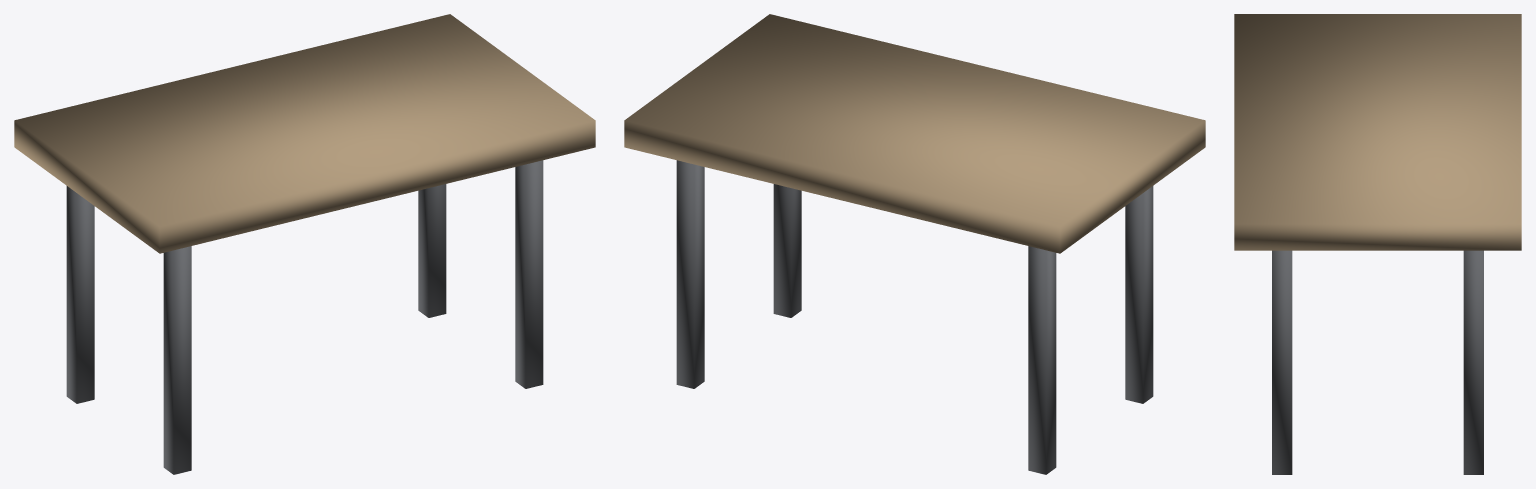
Rendered from dining_table.glb.
The picture shows the model from 3 angles, left to right: view 1: azimuth 30°, elevation 25°; view 2: azimuth 150°, elevation 25°; view 3: azimuth 270°, elevation 25°; orthographic projection.
Parts seen in each view (by area): view 1: world; view 2: world; view 3: world.
Part boxes in pixels (box(x1,y1,x2,y2)): world: box(14, 14, 595, 474); world: box(624, 14, 1205, 474); world: box(1234, 14, 1521, 474).
Size of the model in its own units: 1.35 by 0.8 by 0.78.
